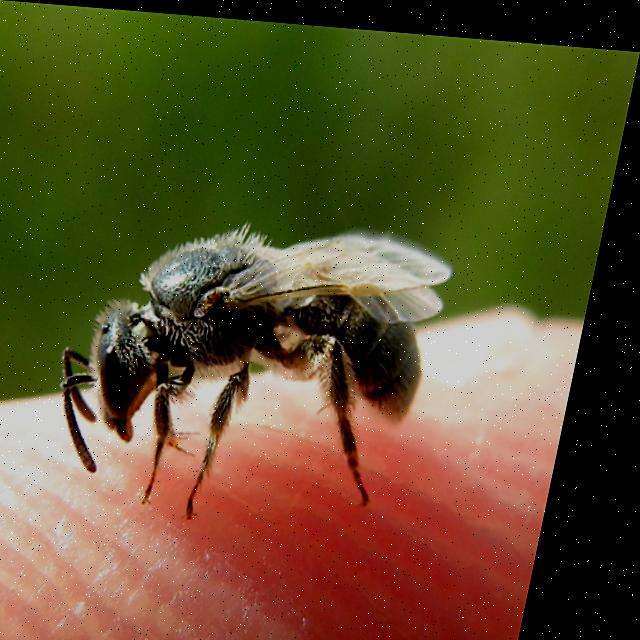Lasioglossum: (48, 175, 489, 534)
